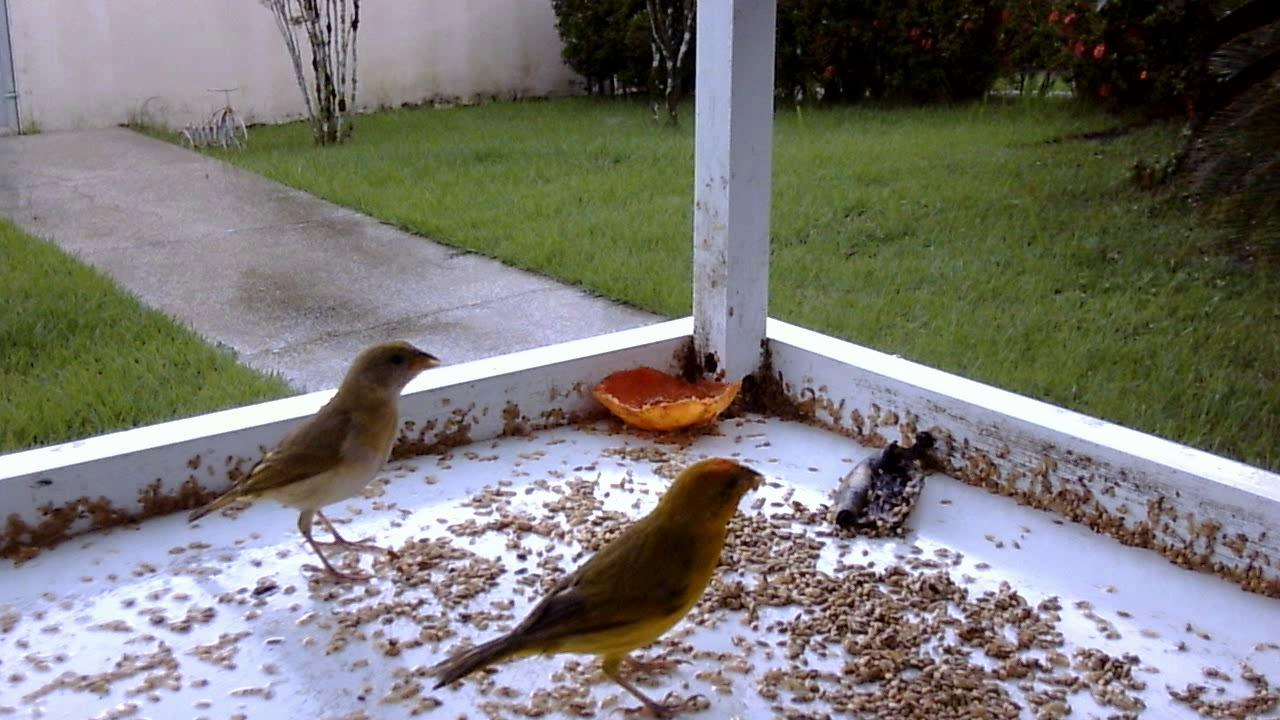canario_do_amazonas: (414, 452, 772, 720), (168, 335, 447, 603)
